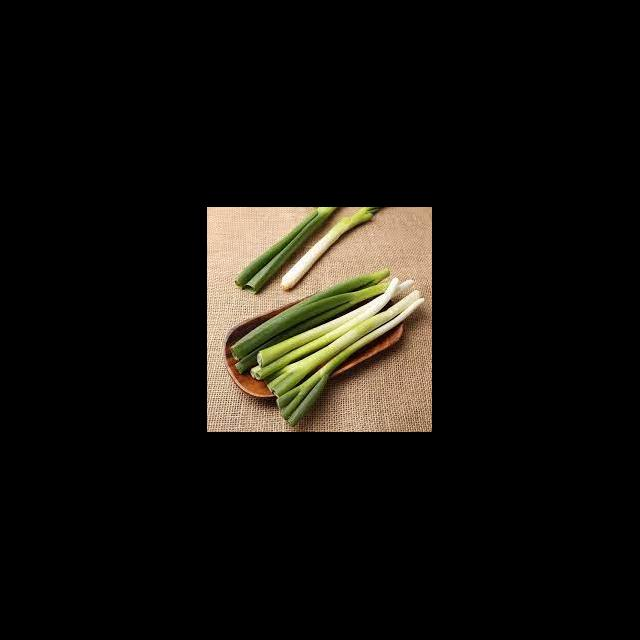green_onion: (251, 278, 425, 427)
